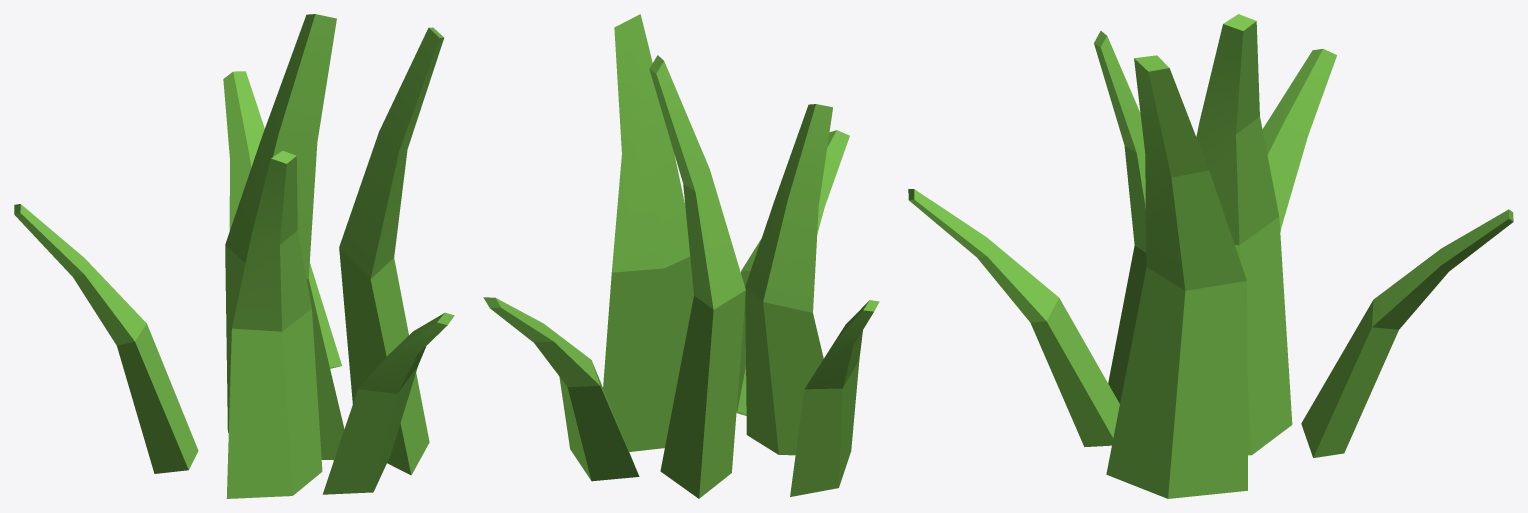
The model's file is grass.fbx.
3 renders of one model, left to right at view 1: azimuth 30°, elevation 25°; view 2: azimuth 150°, elevation 25°; view 3: azimuth 270°, elevation 25°, orthographic. The views are drawn at different scales.
Visible parts, largest first — view 1: pCube7; view 2: pCube7; view 3: pCube7.
Boxes of the visible parts, left/top/right/bottom form: pCube7: left=14, top=14, right=454, bottom=498; pCube7: left=483, top=14, right=879, bottom=498; pCube7: left=908, top=14, right=1513, bottom=498.
Bounding box in the file's own units: 0.3328 × 0.3892 × 0.4811.
